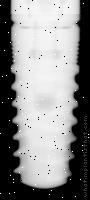MIS: (7, 13, 80, 190)
